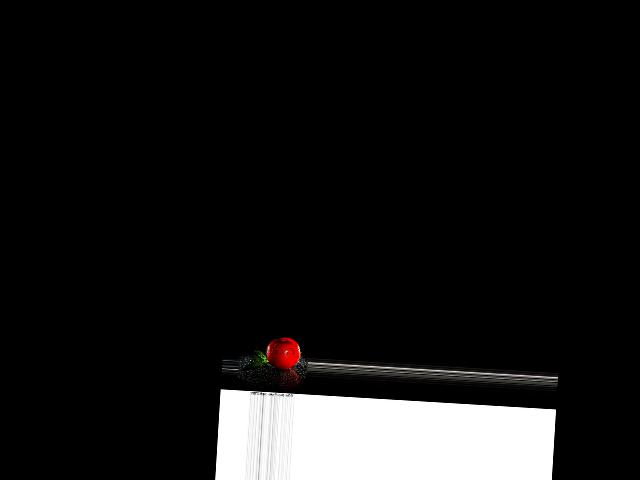tomato: (265, 336, 300, 369)
